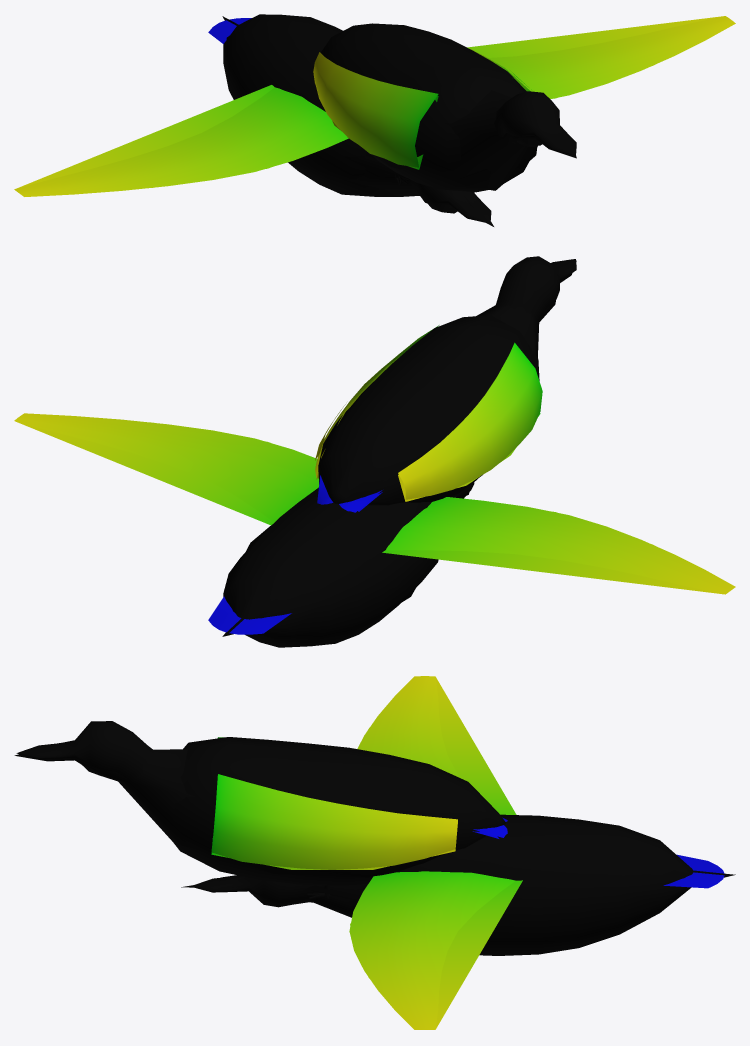
File: duck_f.glb
3 renders of one model, top to bottom at view 1: azimuth 30°, elevation 25°; view 2: azimuth 150°, elevation 25°; view 3: azimuth 270°, elevation 25°, orthographic.
Parts seen in each view (by area): view 1: fly0, stand0, fly2, stand1, fly1; view 2: fly0, stand0, fly2, stand1, fly1; view 3: fly0, stand0, fly2, stand1, fly1.
Boxes of the visible parts, x1,y1,x2,y2 form: fly0: (14, 14, 735, 222); stand0: (313, 23, 576, 192); fly2: (16, 16, 722, 226); stand1: (314, 82, 576, 190); fly1: (16, 28, 652, 222); fly0: (14, 413, 735, 647); stand0: (315, 256, 576, 512); fly2: (15, 421, 729, 636); stand1: (316, 260, 576, 511); fly1: (123, 422, 732, 635); fly0: (193, 676, 724, 1029); stand0: (16, 721, 507, 899); fly2: (181, 677, 735, 1029); stand1: (14, 749, 499, 898); fly1: (192, 713, 689, 1029).
Size of the model in its own units: 0.85 by 0.252 by 0.7338.
